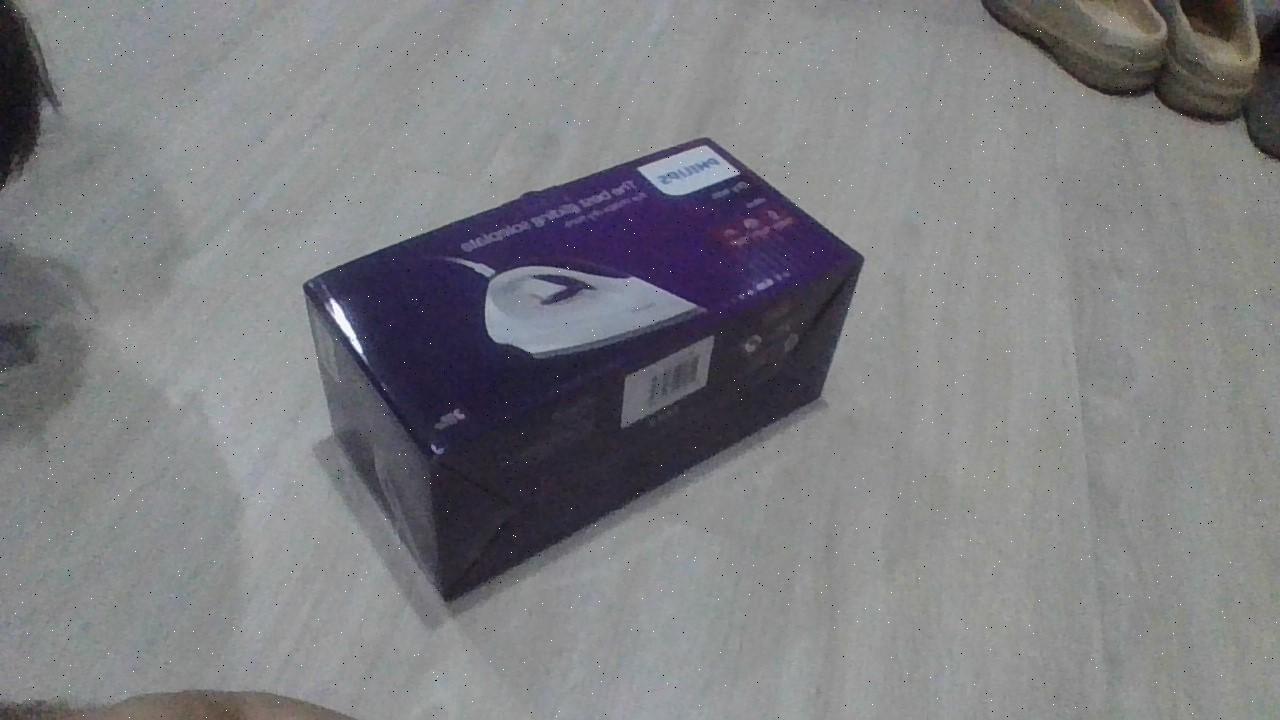IRON: (299, 133, 869, 609)
